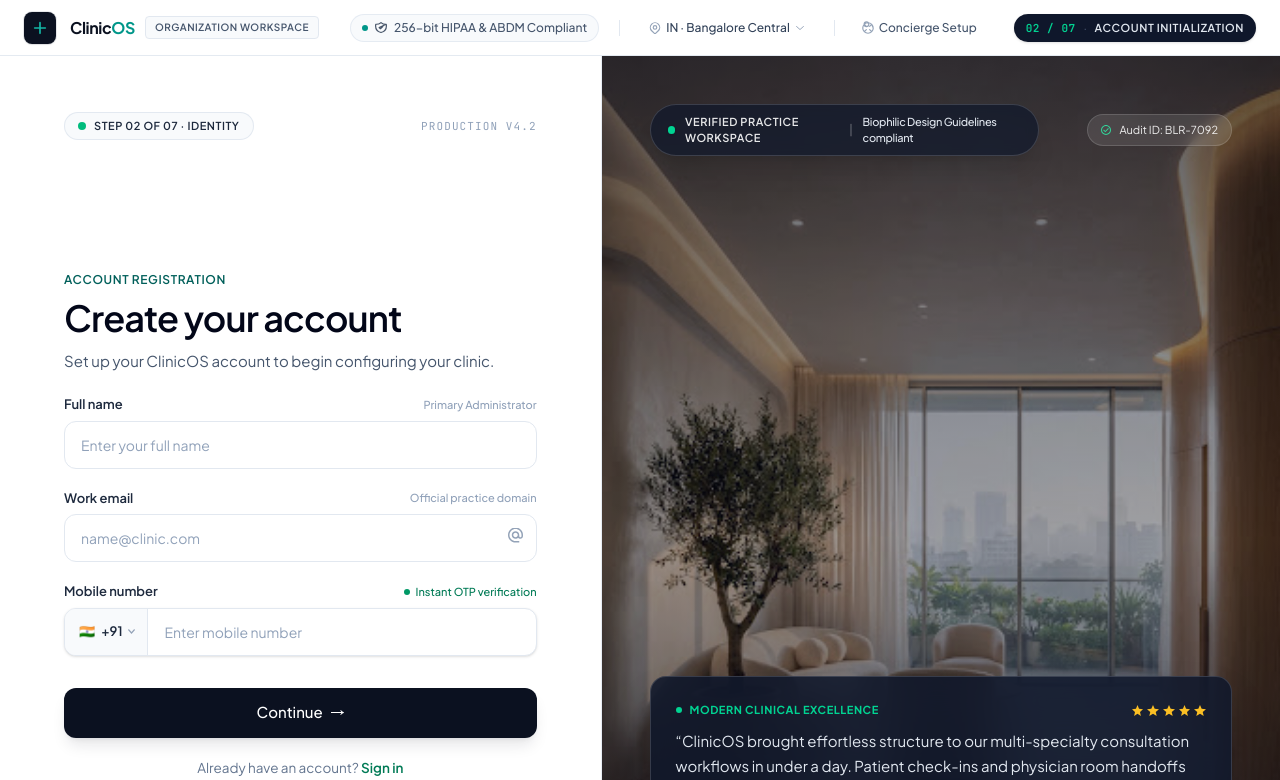
Test: create account page › clears an error once the field is corrected
Click the button "Continue": point(300, 712) [64,688,537,738]
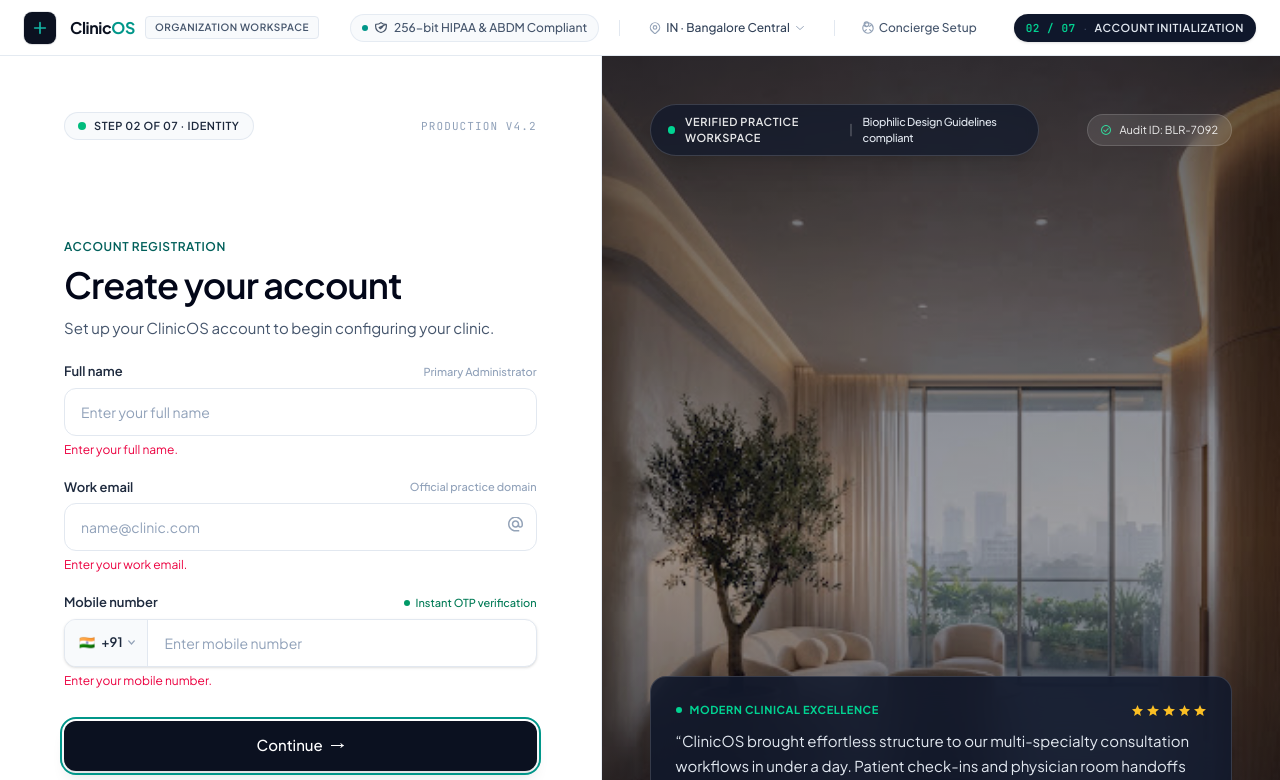
In the field labelled "Full name": point(300, 412) [64,388,537,436], type "Siddharth Verma"
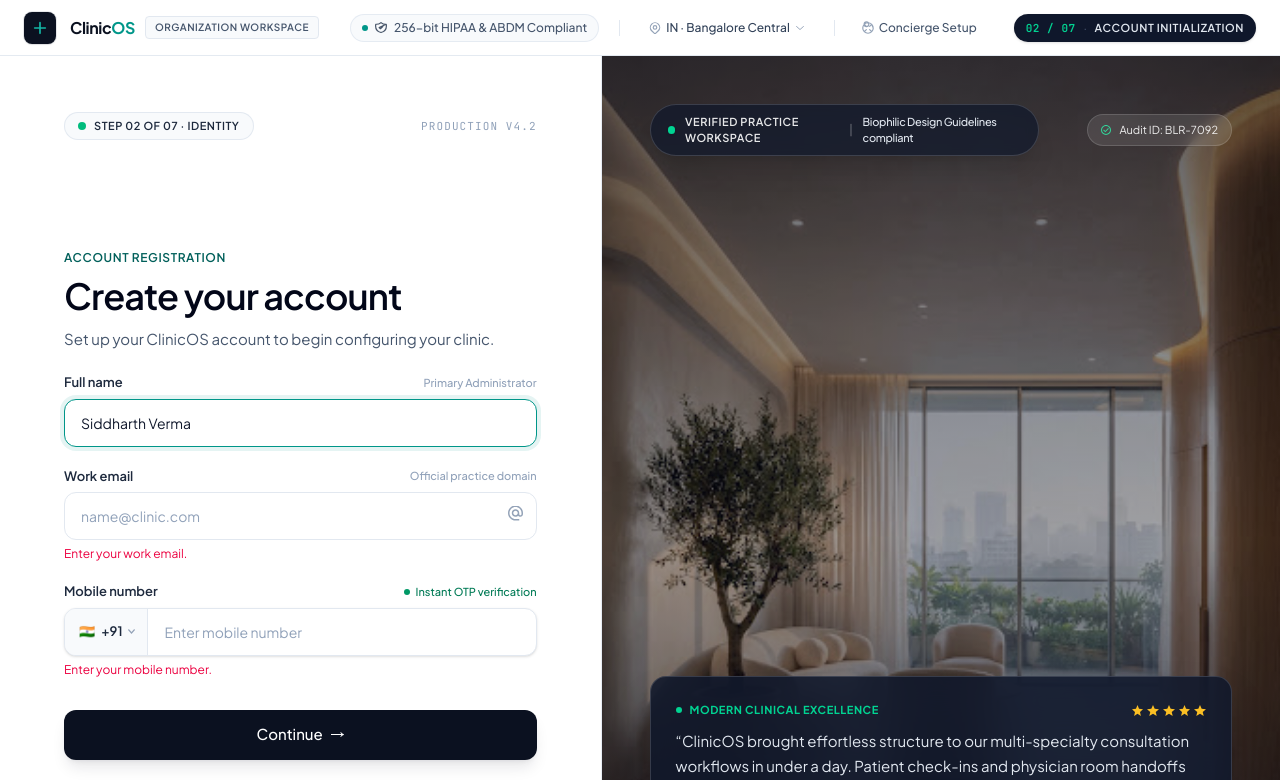
Expected: the text "Enter your full name." is gone
